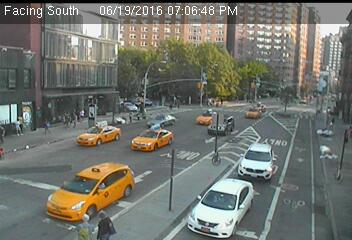neg: (308, 139, 325, 161), (292, 106, 305, 124), (222, 168, 234, 184), (75, 158, 87, 174), (207, 139, 218, 153), (332, 112, 342, 126), (45, 146, 55, 159), (241, 144, 251, 156), (135, 165, 144, 178), (149, 139, 157, 151), (288, 136, 296, 147), (50, 172, 58, 182), (298, 151, 305, 160), (97, 159, 103, 168), (99, 134, 105, 142)
pos: (91, 207, 113, 237), (72, 208, 93, 237), (11, 117, 24, 135), (60, 109, 73, 126), (39, 117, 51, 132), (69, 110, 81, 125), (173, 97, 183, 110), (217, 95, 226, 107), (166, 100, 175, 111)
